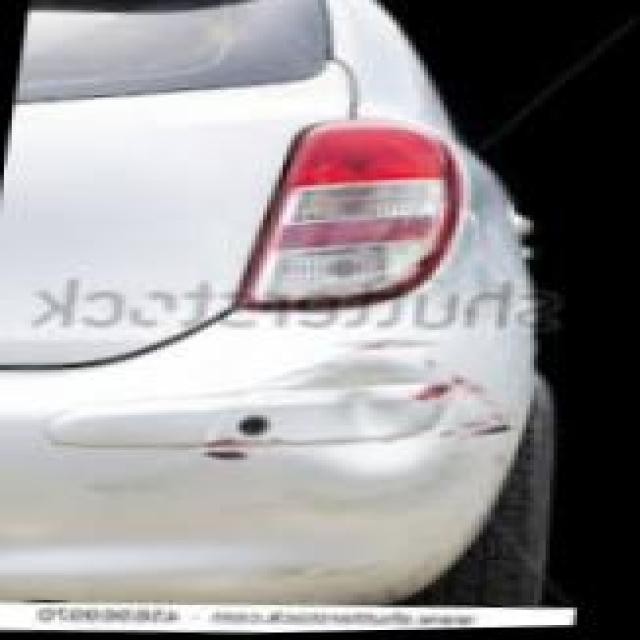Bumper: (188, 335, 539, 499)
